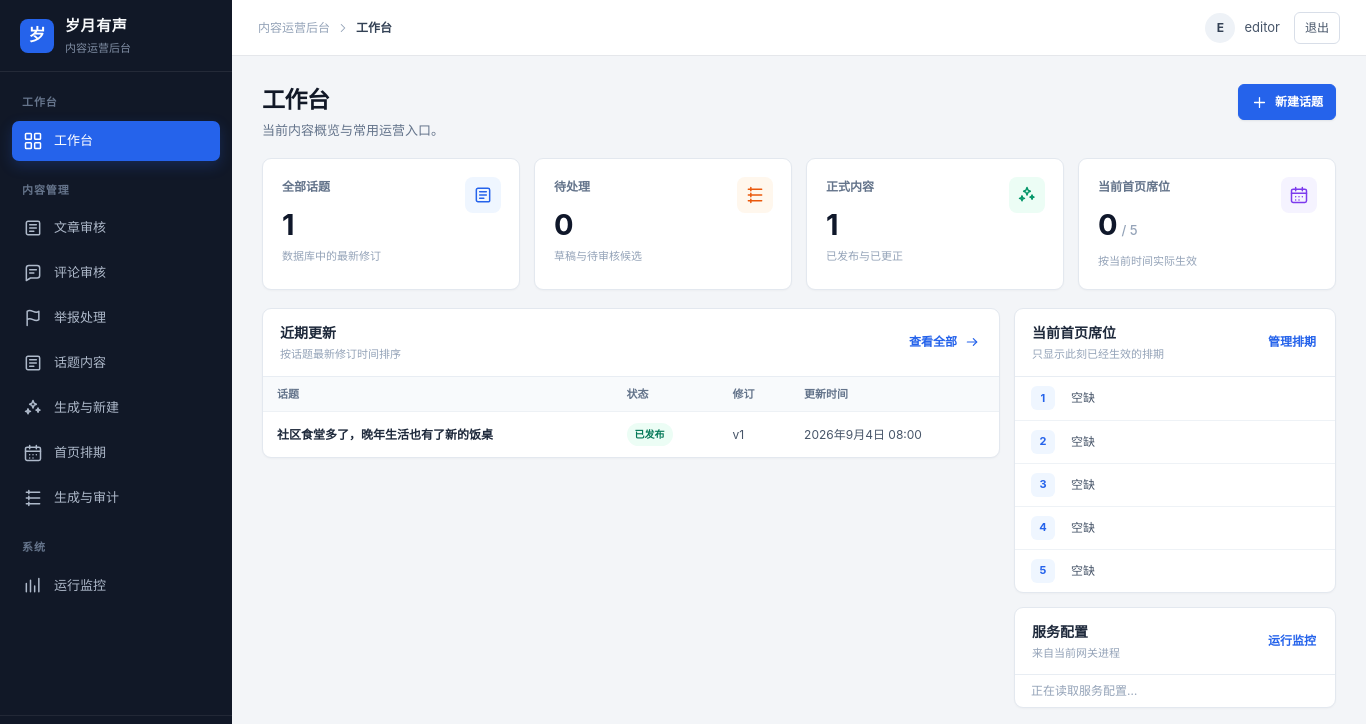
Test: keeps generation, scheduling and emergency takedown reachable in the compact console
Click the button "生成与新建" at (116, 408), box 12,388 -> 220,428
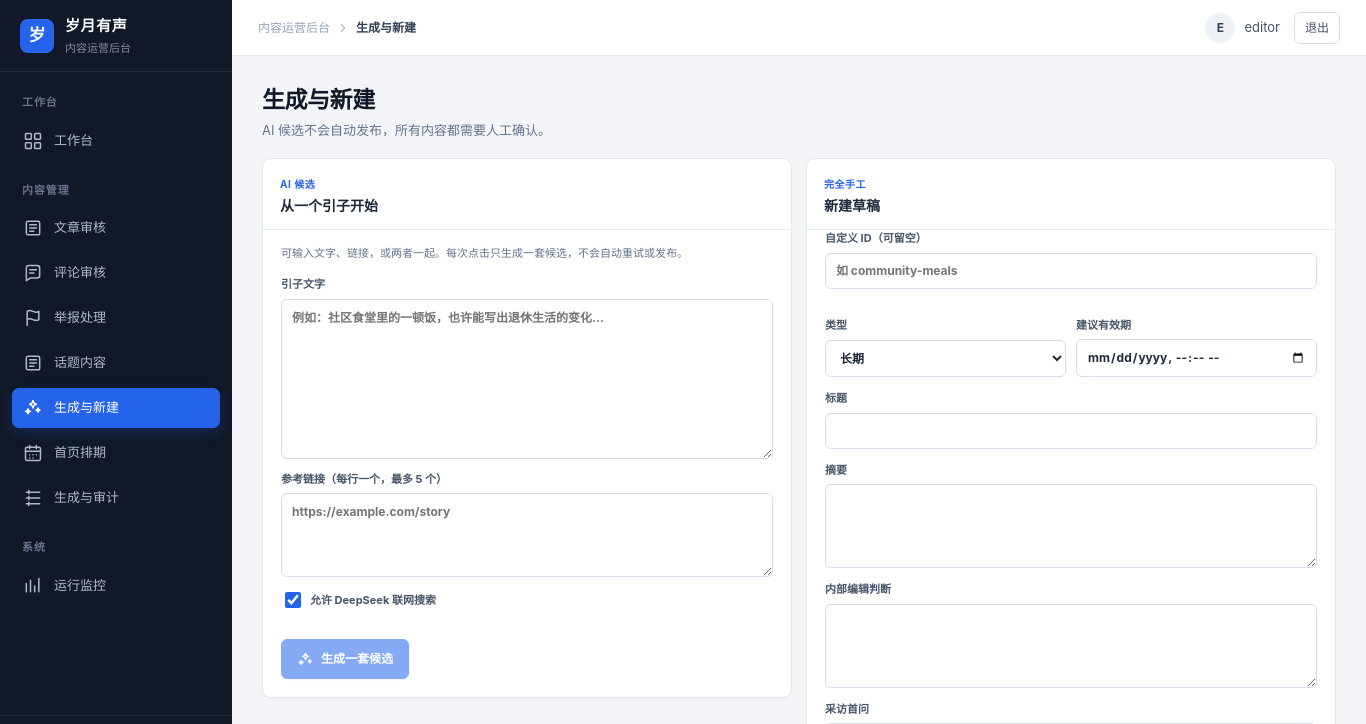
expect the button "生成一套候选" is disabled: met, box 281,639 -> 409,679
expect the checkbox labelled "允许 DeepSeek 联网搜索" is checked: met, box 285,592 -> 301,608
Click the button "首页排期" at (116, 453), box 12,433 -> 220,473
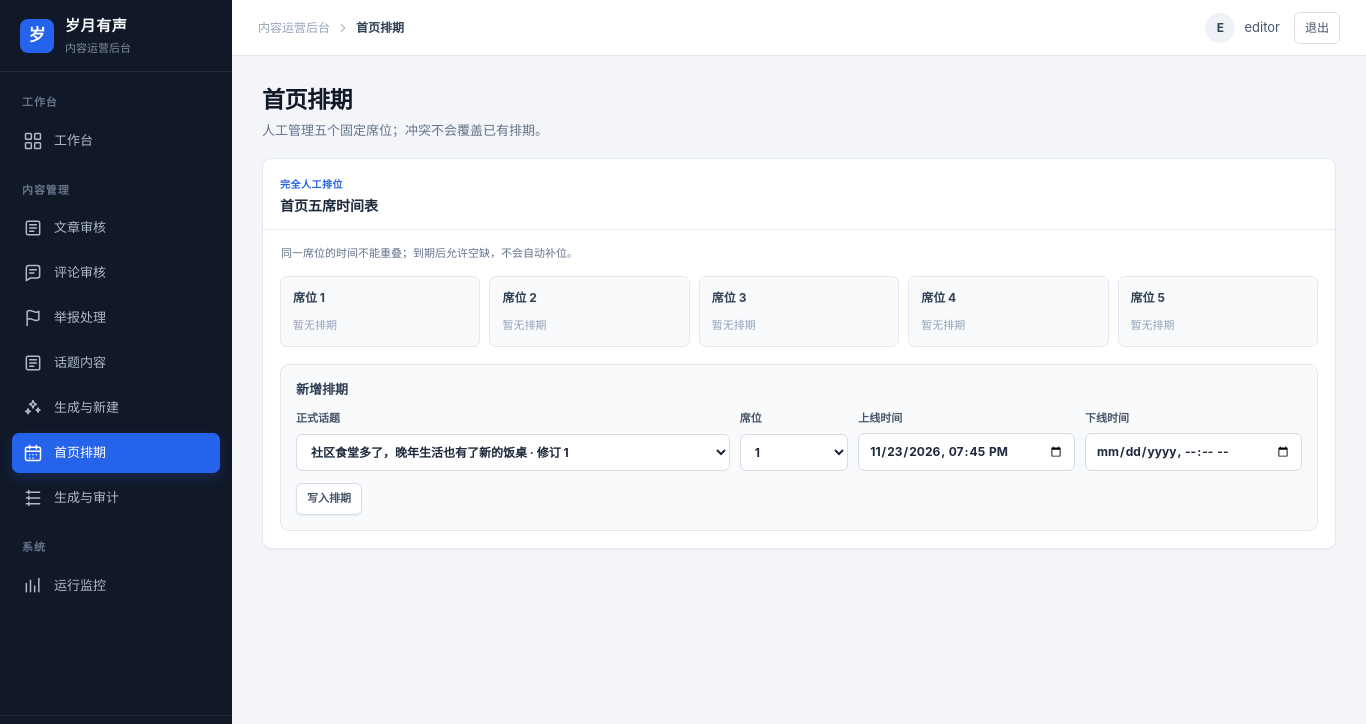
expect the heading "首页五席时间表" is shown: met, box 280,195 -> 378,216
expect the number of headings "席位 1" is 5: met, box 293,290 -> 325,305; 502,290 -> 537,305; 712,290 -> 746,305; 921,290 -> 956,305; 1131,290 -> 1165,305
Click the button "话题内容" at (116, 363), box 12,343 -> 220,383
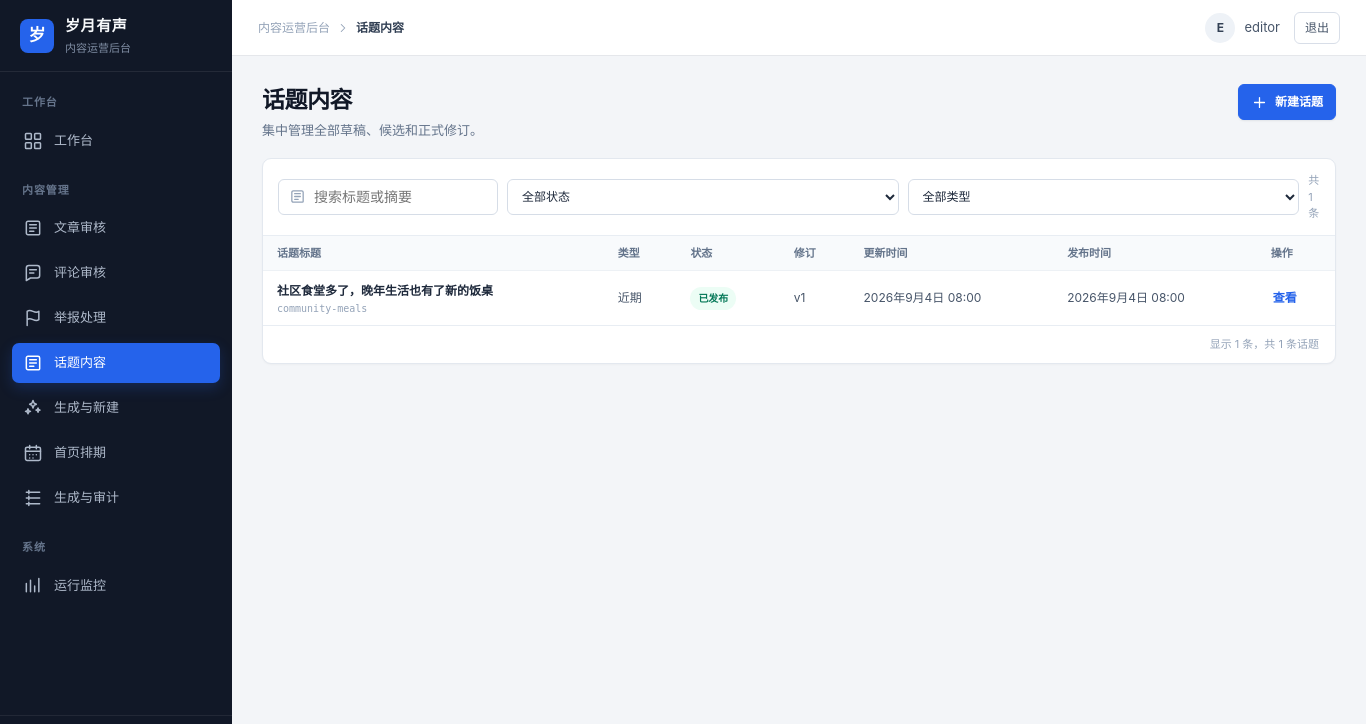
Click the button "社区食堂多了，晚年生活也有了新的饭桌" at (385, 291), box 277,282 -> 493,300
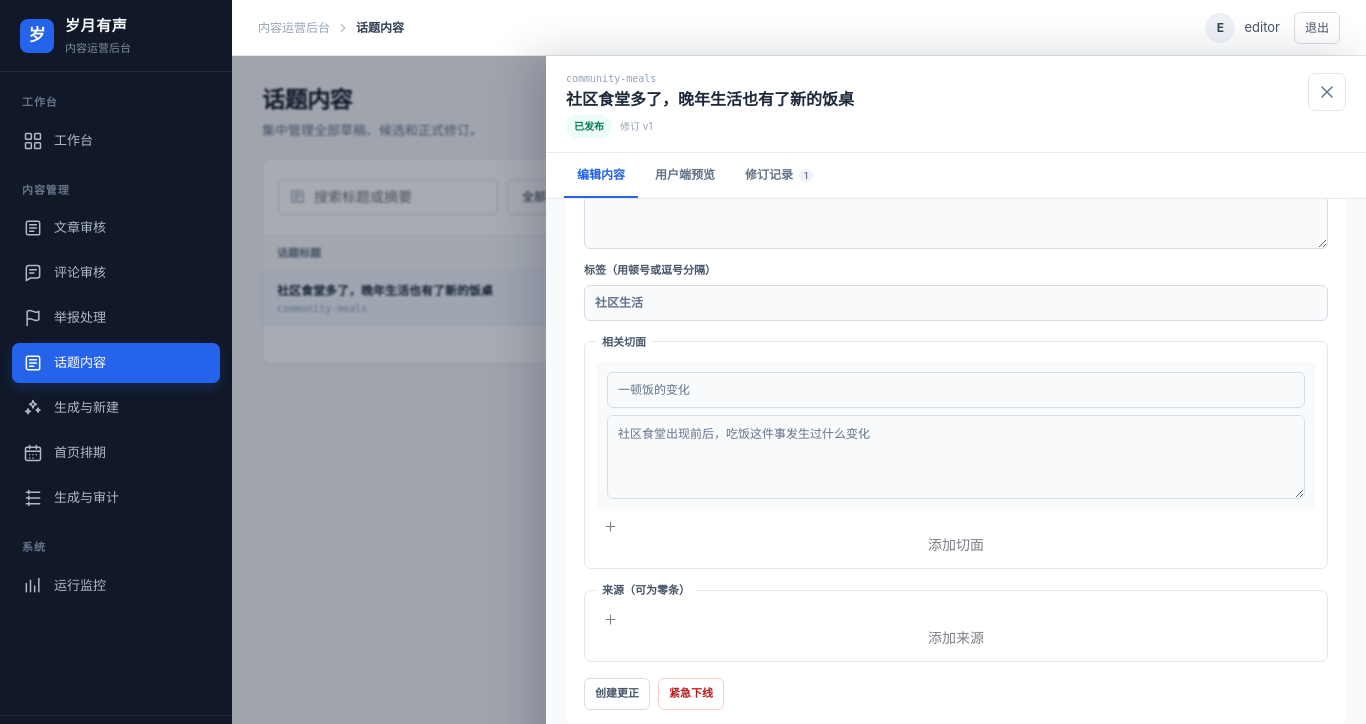
expect the button "紧急下线" is enabled: met, box 658,678 -> 724,710
